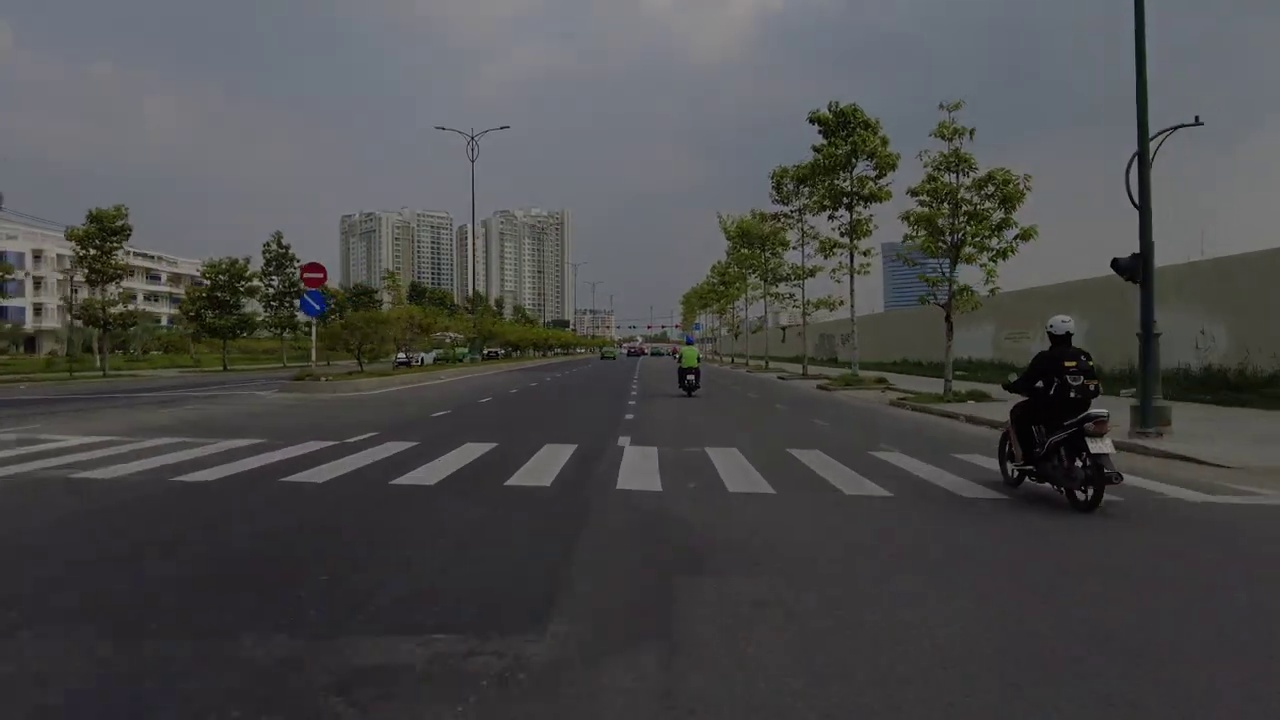cam_nguoc_chieu: (300, 261, 327, 288)
huong_phai_di_vong: (300, 290, 325, 316)
